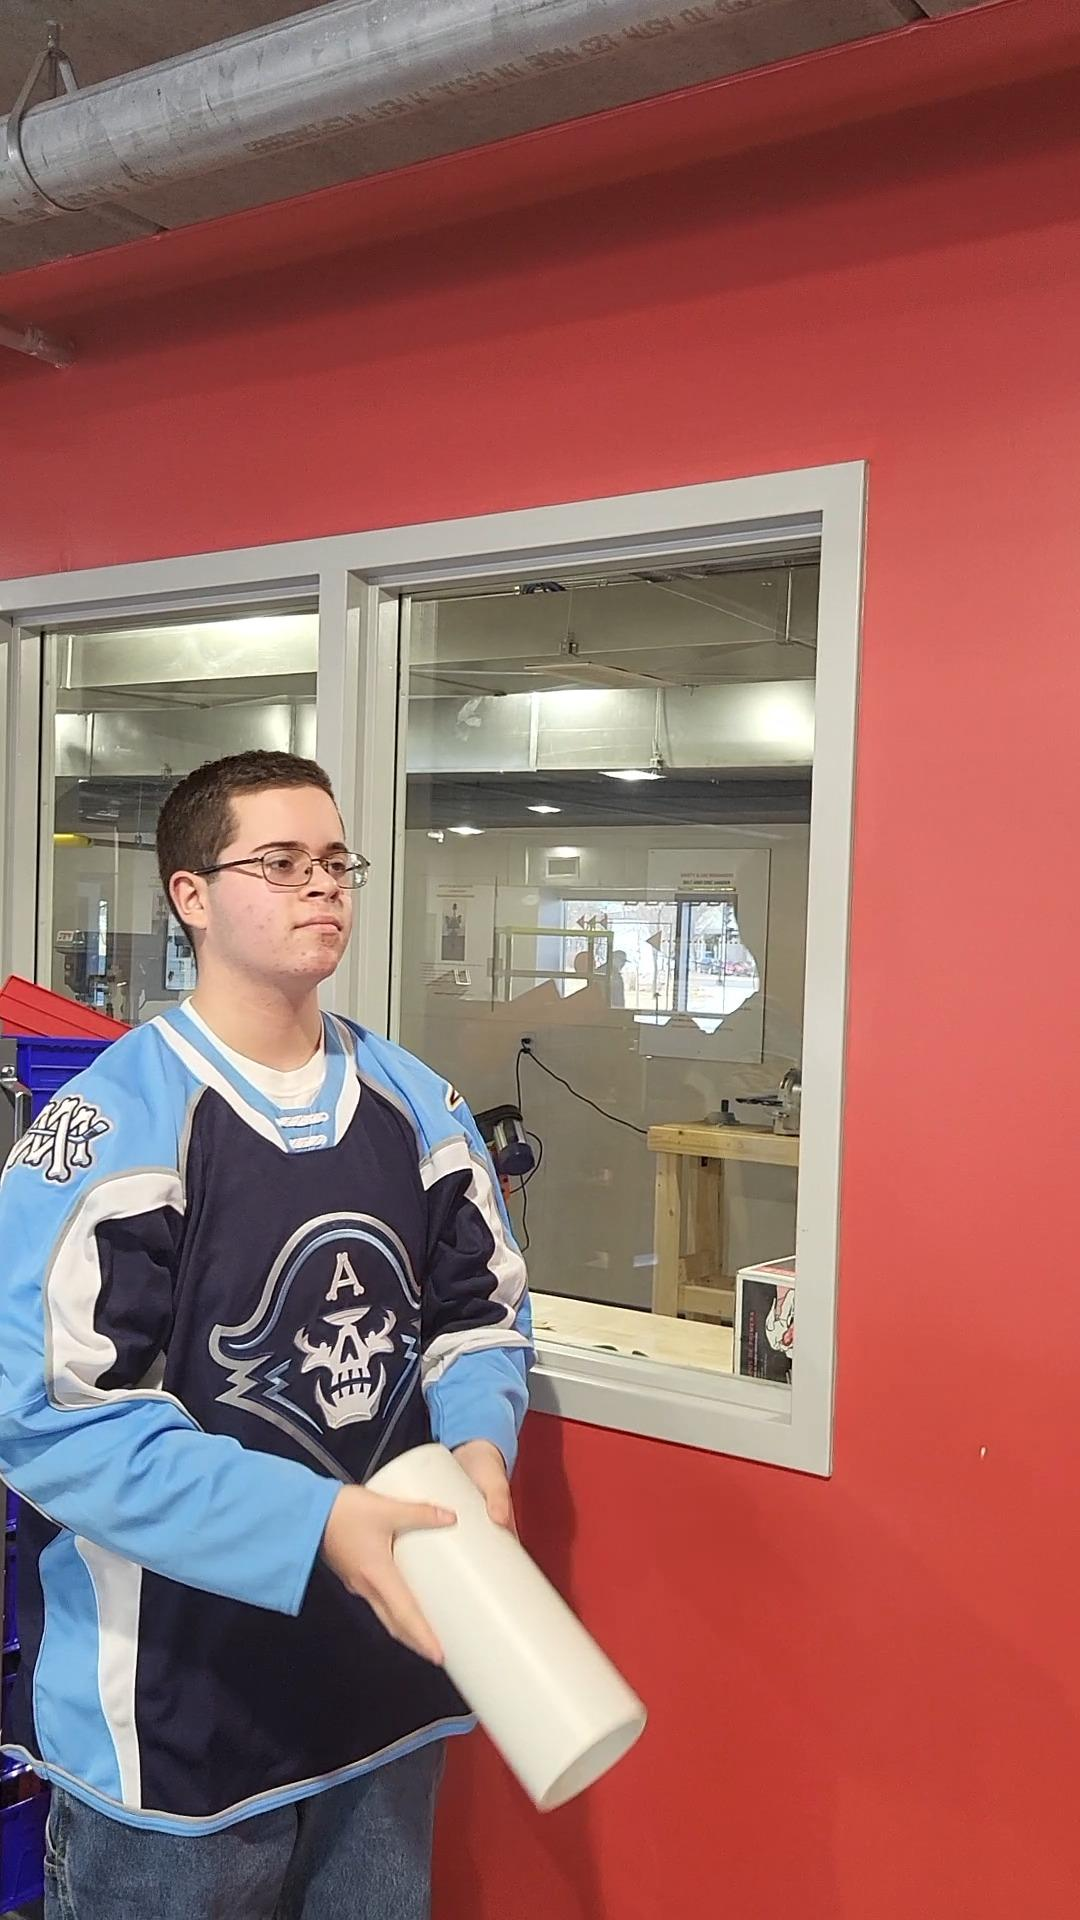coral: (343, 1436, 644, 1818)
